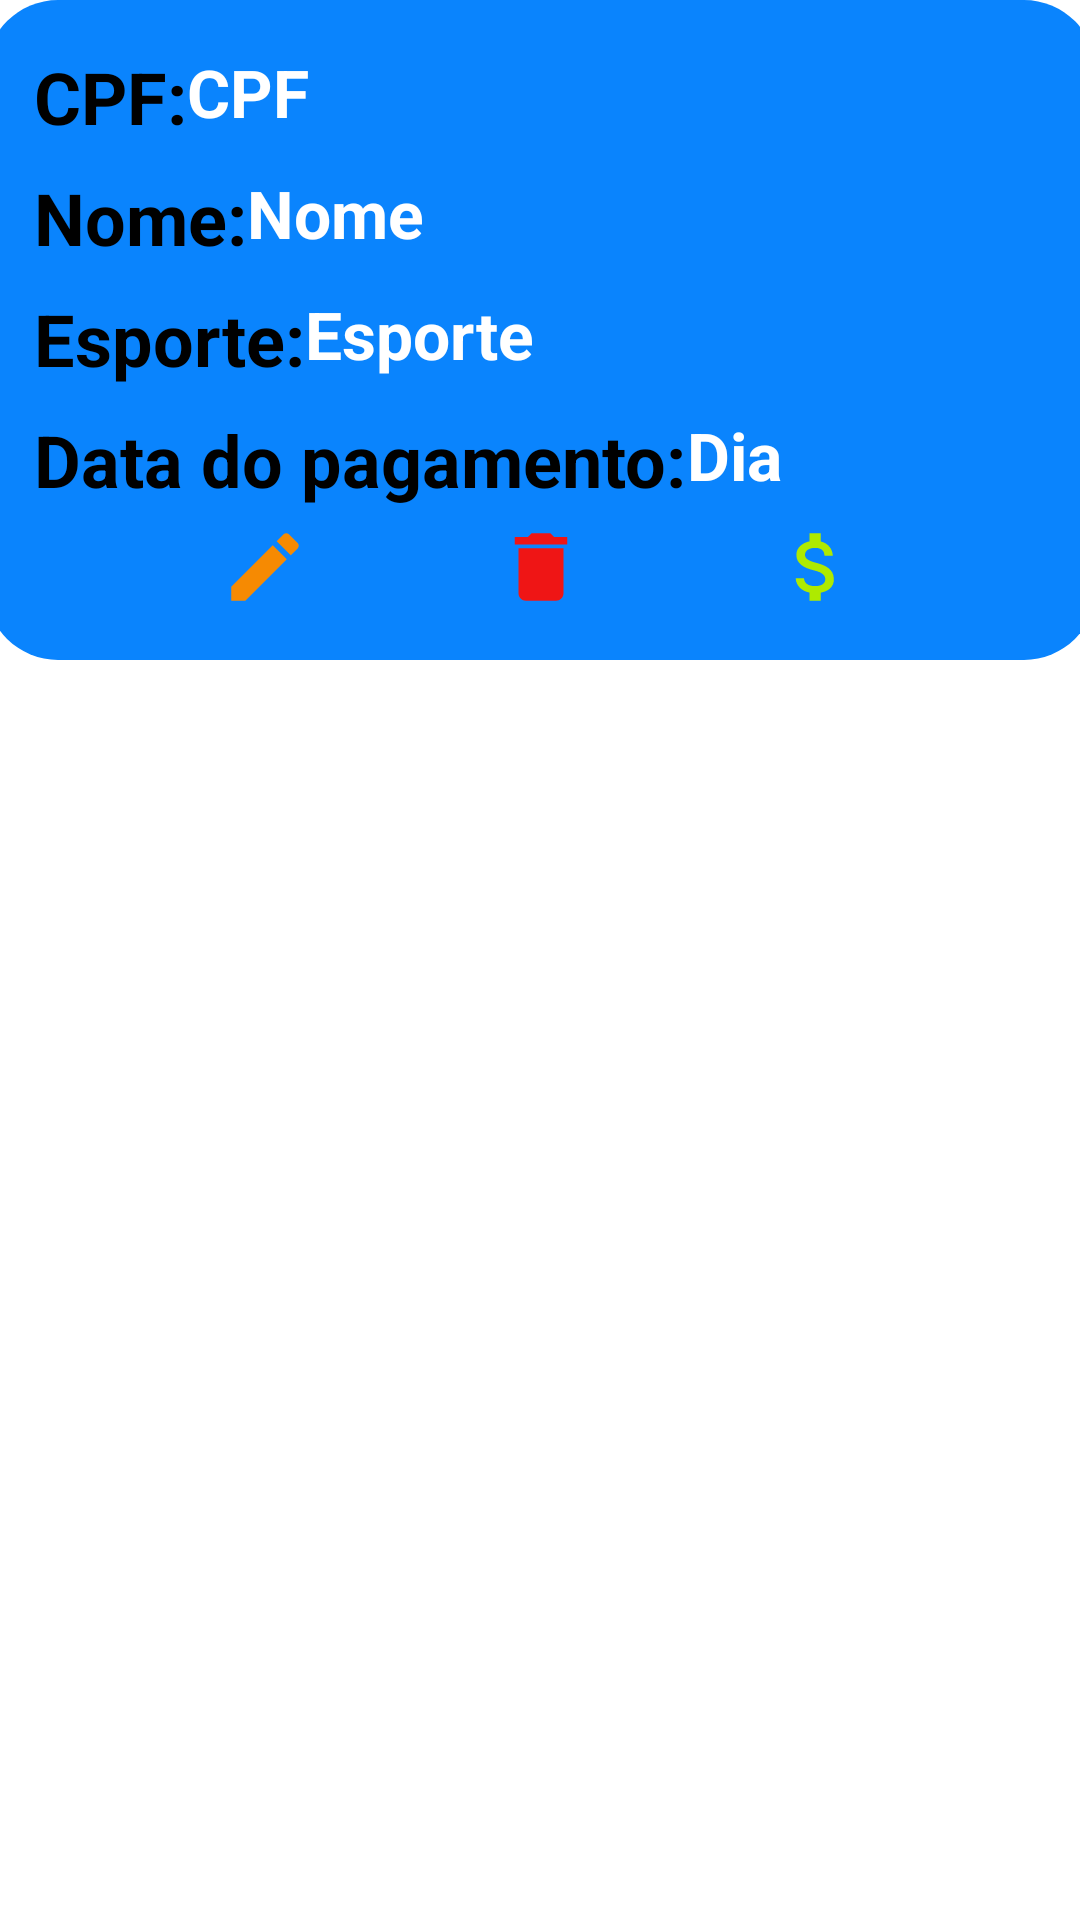

Icons on this 1080x1920 Android screen, each with the point to tap as point (x, y):
delete: point (541, 567)
edit: point (265, 567)
